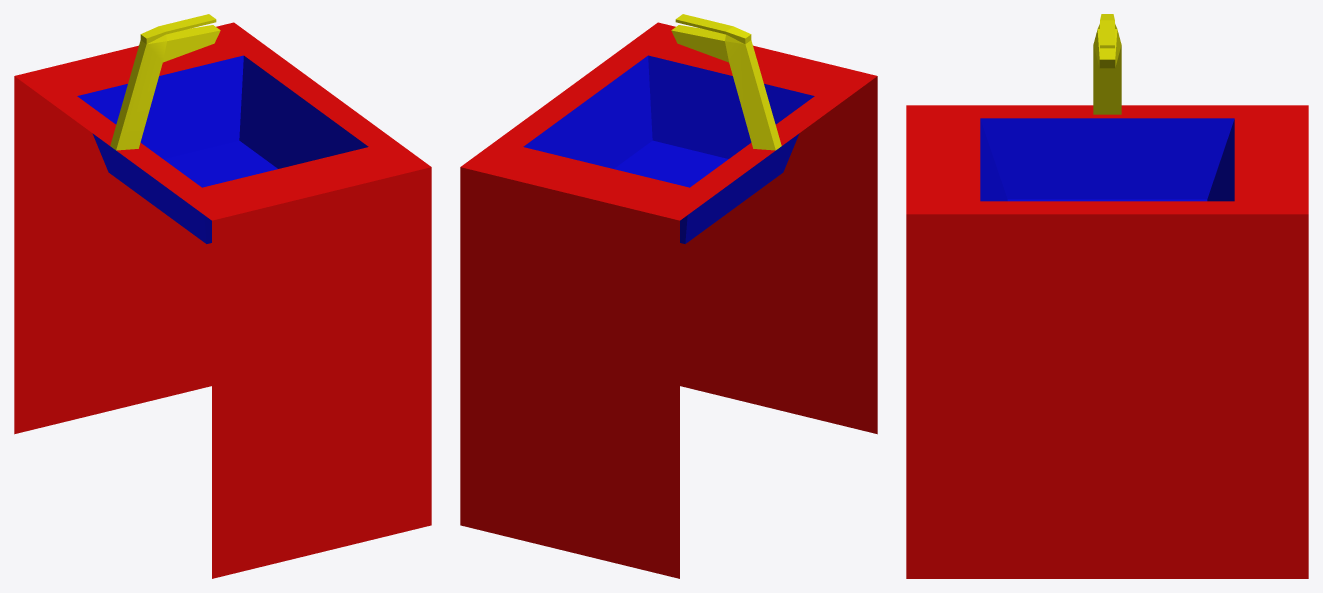
File: Waschbecken_1_low.fbx
3 renders of one model, left to right at view 1: azimuth 30°, elevation 25°; view 2: azimuth 150°, elevation 25°; view 3: azimuth 270°, elevation 25°, orthographic.
Visible parts, largest first — view 1: Waschbecken_1_low; view 2: Waschbecken_1_low; view 3: Waschbecken_1_low.
Boxes of the visible parts, x1,y1,x2,y2 form: Waschbecken_1_low: [14, 14, 431, 578]; Waschbecken_1_low: [460, 14, 877, 578]; Waschbecken_1_low: [906, 14, 1308, 578].
Size of the model in its own units: 0.6417 by 1.3 by 1.
